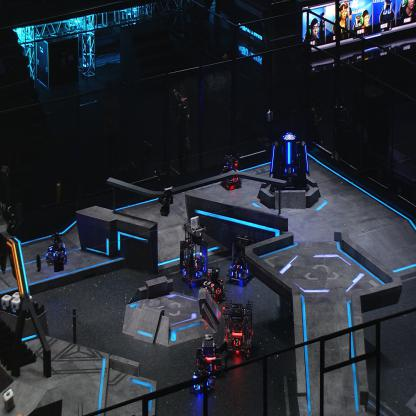car: (222, 296, 254, 358), (179, 222, 208, 287), (227, 230, 255, 283), (194, 333, 224, 378), (190, 356, 216, 393), (201, 264, 225, 302), (221, 154, 242, 190), (45, 231, 67, 264)
